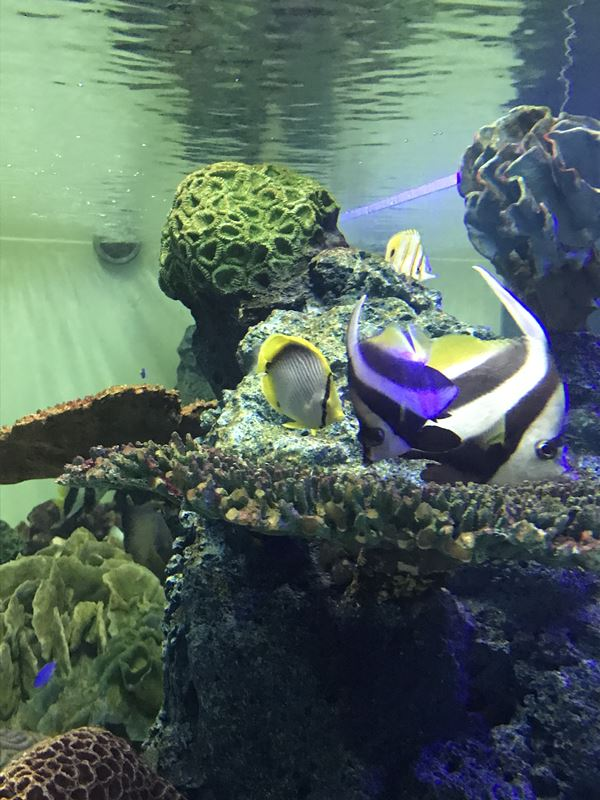Black-backed butterflyfish: (237, 326, 351, 437)
